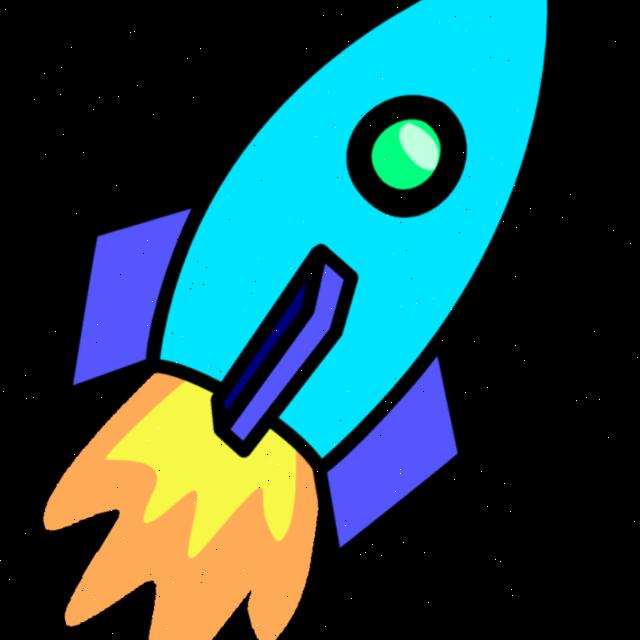rocket: (52, 0, 564, 584)
